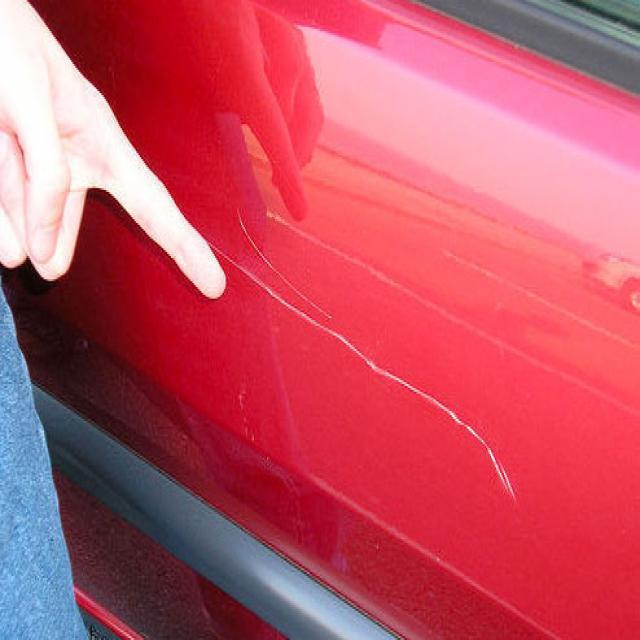paint-trace: (188, 190, 521, 512)
